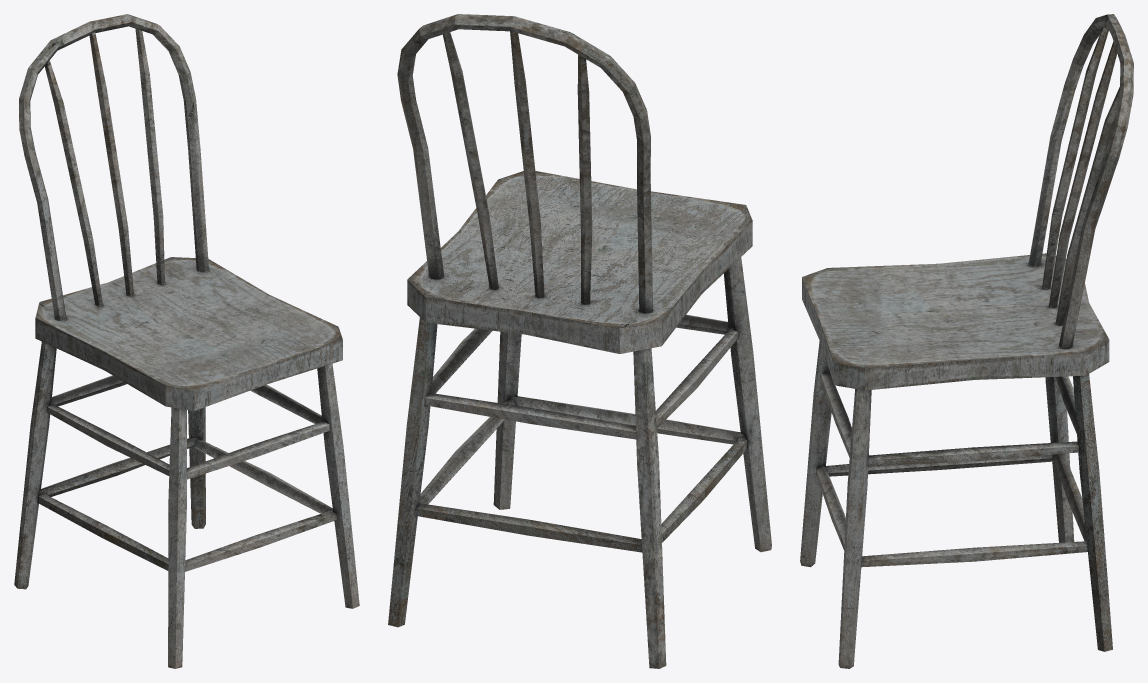
The model's file is steel_chair.fbx.
3 views of the same model, side by side, from view 1: azimuth 30°, elevation 25°; view 2: azimuth 150°, elevation 25°; view 3: azimuth 270°, elevation 25° (orthographic). The views are drawn at different scales.
Parts seen in each view (by area): view 1: Steel_Chair; view 2: Steel_Chair; view 3: Steel_Chair.
Part boxes in pixels (<box>): Steel_Chair: <box>14,14,359,668</box>; Steel_Chair: <box>388,14,771,668</box>; Steel_Chair: <box>800,14,1133,668</box>.
Bounding box in the file's own units: 127 × 266 × 142.
Materials: 1 (1 with a texture image).
